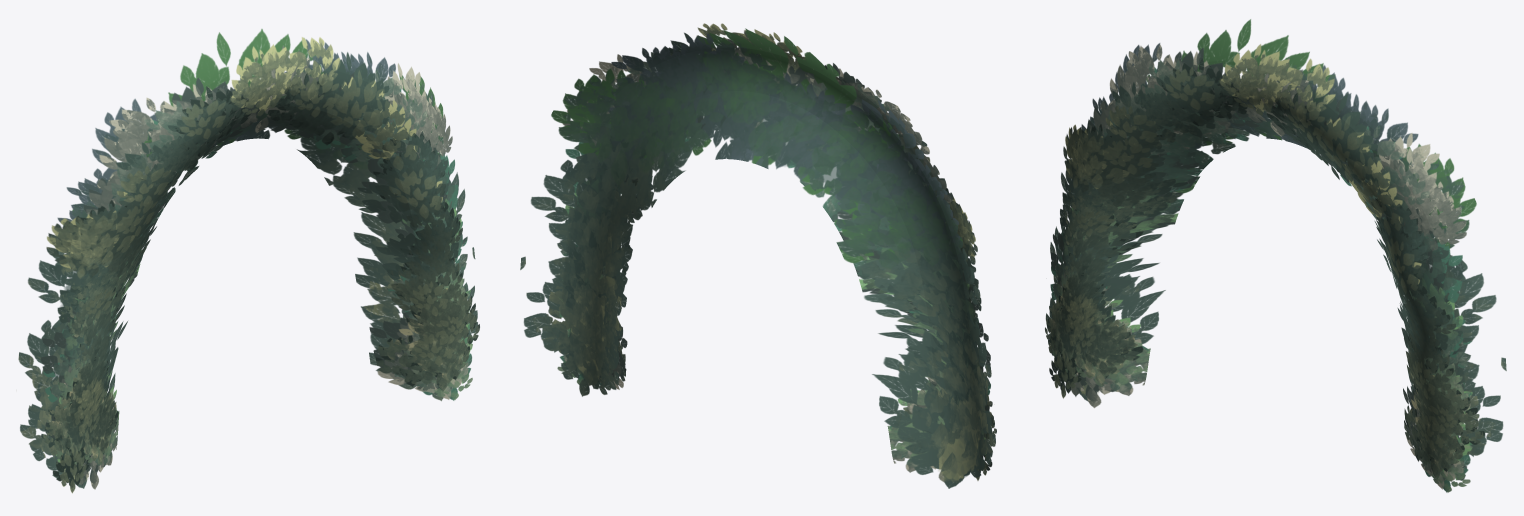
Rendered from instal1.glb.
3 views of the same model, side by side, from view 1: azimuth 30°, elevation 25°; view 2: azimuth 150°, elevation 25°; view 3: azimuth 330°, elevation 25° (orthographic). The views are drawn at different scales.
Parts seen in each view (by area): view 1: Circle.002, Circle.001, Circle; view 2: Circle, Circle.001, Circle.002; view 3: Circle.002, Circle.001, Circle.
Boxes of the visible parts, x1=… form: Circle.002: x1=41, y1=37, x2=479, y2=493; Circle.001: x1=41, y1=45, x2=472, y2=489; Circle: x1=18, y1=29, x2=477, y2=488; Circle: x1=520, y1=28, x2=995, y2=488; Circle.001: x1=556, y1=31, x2=992, y2=482; Circle.002: x1=544, y1=23, x2=996, y2=480; Circle.002: x1=1045, y1=44, x2=1484, y2=477; Circle.001: x1=1049, y1=44, x2=1472, y2=492; Circle: x1=1045, y1=19, x2=1506, y2=480.
Size of the model in its own units: 1.97 by 1.69 by 0.2707.
3 materials, 3 textured.
